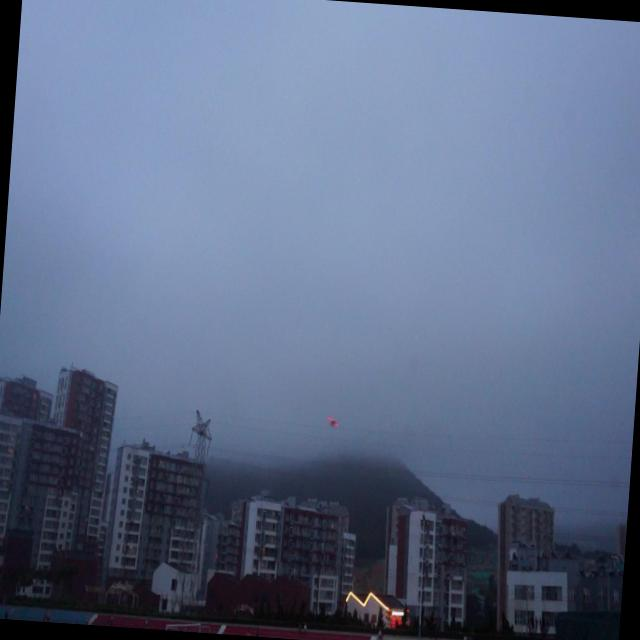drone: (325, 411, 342, 434)
